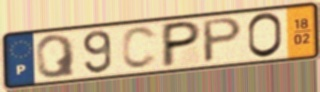9: (81, 29, 114, 76)
C: (120, 25, 160, 72)
O: (246, 11, 284, 60)
P: (159, 19, 204, 70), (201, 16, 245, 66)
Q: (34, 33, 78, 80)
